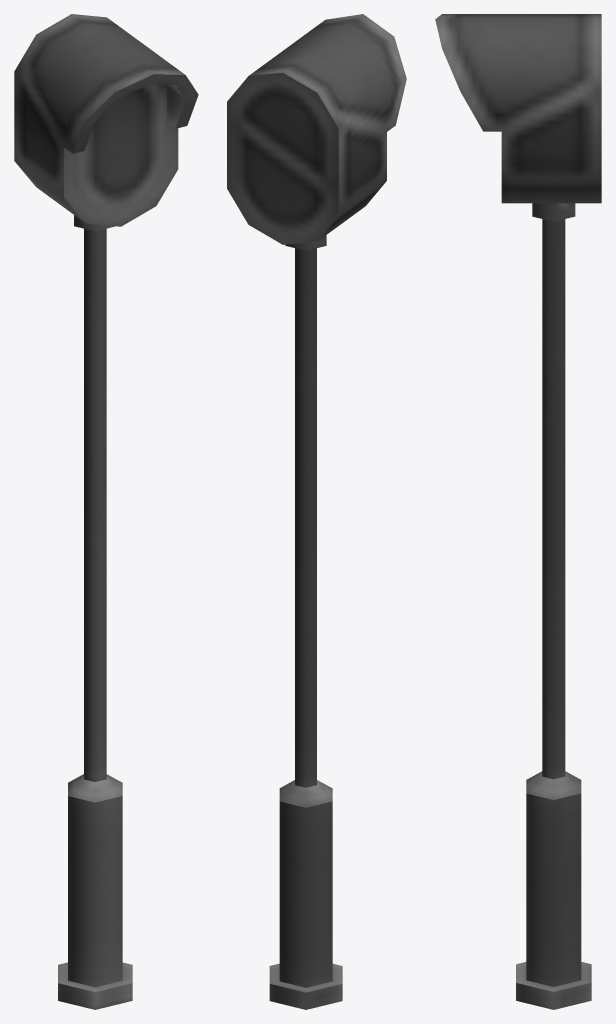
Rendered from Semaphore_1.FBX.
3 renders of one model, left to right at view 1: azimuth 30°, elevation 25°; view 2: azimuth 150°, elevation 25°; view 3: azimuth 270°, elevation 25°, orthographic. The views are drawn at different scales.
Visible parts, largest first — view 1: Semaphore_1; view 2: Semaphore_1; view 3: Semaphore_1.
Part boxes in pixels (box(x1,y1,x2,y2)): Semaphore_1: box(14, 14, 198, 1009); Semaphore_1: box(227, 14, 406, 1009); Semaphore_1: box(435, 14, 601, 1009).
Bounding box in the file's own units: 121 × 968 × 150.
